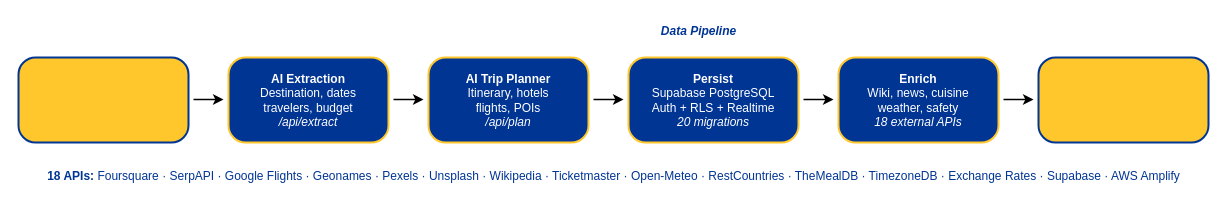
The diagram is 1226 pixels wide and 201 high, and some of its shapes have lost their labels. Each missing label, with the box of its shape:
Render Web (Next.js) iOS & Android (Expo) Real-time sync (Yjs): (1037, 56, 1209, 143)
User Prompt "5 days in Santorini with my partner" Natural language: (17, 56, 189, 143)
